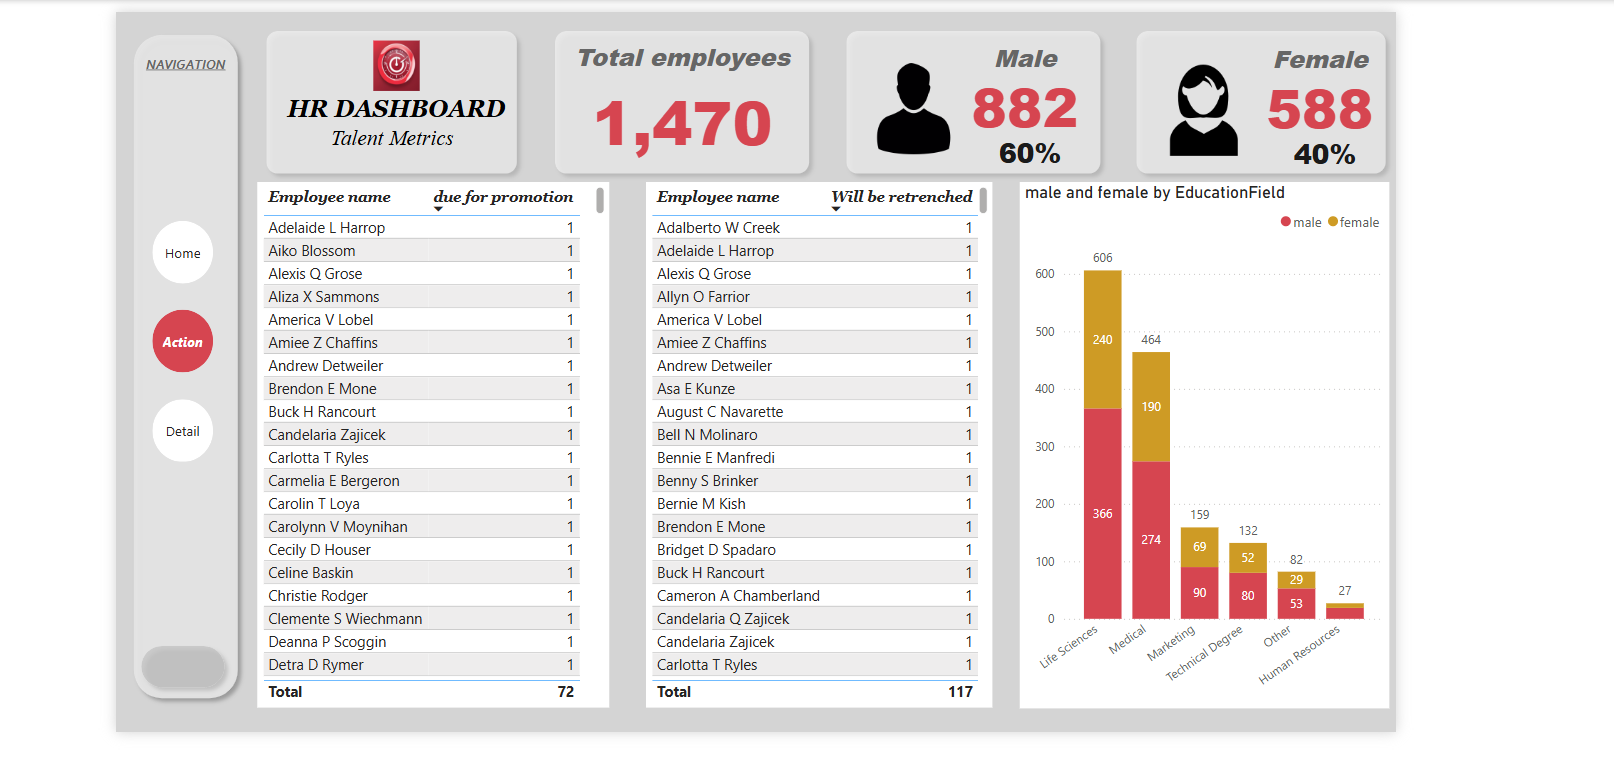

This screenshot's page, from the dashboard's own definition file:
{"tool":"powerbi","page":{"name":"Action","canvas":[1280,720],"ordinal":1},"visuals":[{"type":"shape","box":[8.1,14,122.1,681.4],"z":0},{"type":"shape","box":[141.9,10.5,268.6,160.5],"z":1000},{"type":"shape","box":[430.2,10.5,272.1,160.5],"z":2000},{"type":"shape","box":[720.9,10.5,272.1,160.5],"z":3000},{"type":"shape","box":[1011.6,10.5,267.4,160.5],"z":4000},{"type":"image","box":[252.3,23.3,55.8,60.5],"z":5000},{"type":"card","title":"Total employees","fields":{"Values":["All measure.Total emp"]},"box":[437.2,27.9,258.1,126.7],"z":6000},{"type":"image","box":[1037.2,46.5,101.2,103.5],"z":7000},{"type":"image","box":[743,46.5,110.5,101.2],"z":8000},{"type":"group","id":"g1","title":"Group 4","box":[150,77.9,260.5,74.4],"z":9000},{"type":"group","id":"g2","title":"Group 2","box":[838.4,29.1,145.3,160.5],"z":10000},{"type":"group","id":"g3","title":"Group 3","box":[1134.2,29.8,145.3,160.5],"z":11000},{"type":"textbox","box":[150,77.9,260.5,45.3],"z":11000,"group":"g1"},{"type":"textbox","box":[169.8,109.3,212.8,43],"z":12000,"group":"g1"},{"type":"tableEx","fields":{"Values":["HR employee data.Employee name","All measure.due for promotion"]},"box":[141.9,169.8,352.3,525.6],"z":12000},{"type":"tableEx","fields":{"Values":["HR employee data.Employee name","All measure.retrenched"]},"box":[530.2,169.8,346.5,525.6],"z":13000},{"type":"textbox","box":[5.8,37.2,126.7,31.4],"z":14000},{"type":"card","title":"Male","fields":{"Values":["All measure.male"]},"box":[838.4,29.1,140.7,94.2],"z":15000,"group":"g2"},{"type":"shape","box":[16.3,624.4,101.2,59.3],"z":15000},{"type":"card","title":"Male","fields":{"Values":["All measure.% male"]},"box":[843.1,95.4,140.7,94.2],"z":16000,"group":"g2"},{"type":"columnChart","fields":{"Category":["HR Analytics Data.EducationField"],"Y":["All measure.male","All measure.female"]},"box":[903.5,169.8,369.8,526.7],"z":16000},{"type":"pageNavigator","title":"IUV","box":[36.3,208.7,61.2,243.9],"z":16001},{"type":"card","title":"Female","fields":{"Values":["All measure.female"]},"box":[1134.2,29.8,140.7,94.2],"z":17000,"group":"g3"},{"type":"card","title":"Male","fields":{"Values":["All measure.% female"]},"box":[1138.9,96.1,140.7,94.2],"z":18000,"group":"g3"}]}

Visuals, with their boxes on the page's 1280x720 design canvas (x1, y1, x2, y2). These are canvas units, not pixel positions in the 1614x763 screenshot, which may show the page scaled, cropped or inside an application window:
shape: rect(8, 14, 130, 695)
shape: rect(142, 10, 410, 171)
shape: rect(430, 10, 702, 171)
shape: rect(721, 10, 993, 171)
shape: rect(1012, 10, 1279, 171)
image: rect(252, 23, 308, 84)
"Total employees" card: rect(437, 28, 695, 155)
image: rect(1037, 46, 1138, 150)
image: rect(743, 46, 854, 148)
"Group 4" group: rect(150, 78, 410, 152)
"Group 2" group: rect(838, 29, 984, 190)
"Group 3" group: rect(1134, 30, 1280, 190)
textbox: rect(150, 78, 410, 123)
textbox: rect(170, 109, 383, 152)
tableEx - HR employee data.Employee name x All measure.due for promotion: rect(142, 170, 494, 695)
tableEx - HR employee data.Employee name x All measure.retrenched: rect(530, 170, 877, 695)
textbox: rect(6, 37, 132, 69)
"Male" card: rect(838, 29, 979, 123)
shape: rect(16, 624, 118, 684)
"Male" card: rect(843, 95, 984, 190)
columnChart - HR Analytics Data.EducationField x All measure.male: rect(904, 170, 1273, 696)
"IUV" pageNavigator: rect(36, 209, 98, 453)
"Female" card: rect(1134, 30, 1275, 124)
"Male" card: rect(1139, 96, 1280, 190)
